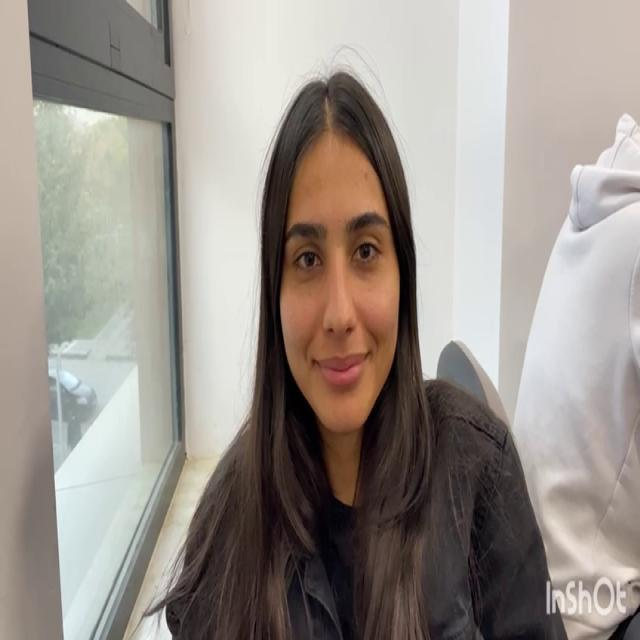happy: (278, 149, 402, 437)
